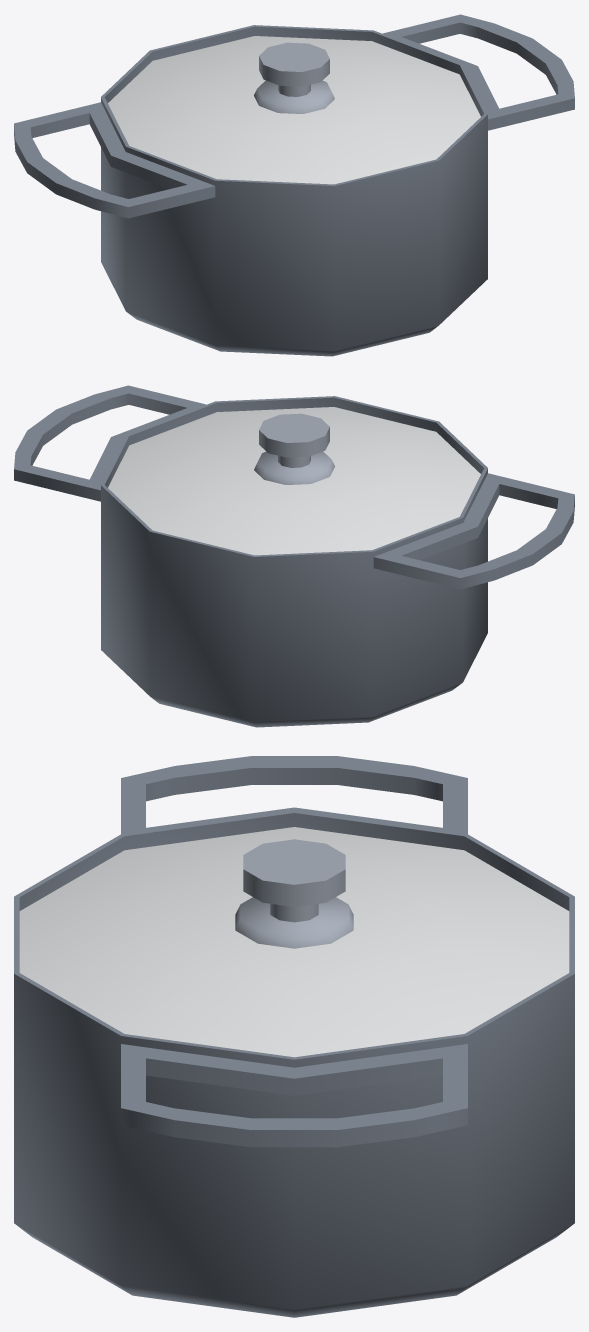
File: Casserole_Pot.glb
3 views of the same model, one above another, from view 1: azimuth 30°, elevation 25°; view 2: azimuth 150°, elevation 25°; view 3: azimuth 270°, elevation 25° (orthographic). The views are drawn at different scales.
Parts seen in each view (by area): view 1: pan_casserole_pot.001_Cylinder.046, pan_casserole_pot_lid_Cylinder.048; view 2: pan_casserole_pot.001_Cylinder.046, pan_casserole_pot_lid_Cylinder.048; view 3: pan_casserole_pot.001_Cylinder.046, pan_casserole_pot_lid_Cylinder.048.
Boxes of the visible parts, left/top/right/bottom form: pan_casserole_pot.001_Cylinder.046: left=14, top=14, right=574, bottom=356; pan_casserole_pot_lid_Cylinder.048: left=108, top=36, right=480, bottom=184; pan_casserole_pot.001_Cylinder.046: left=14, top=385, right=574, bottom=727; pan_casserole_pot_lid_Cylinder.048: left=108, top=407, right=480, bottom=555; pan_casserole_pot.001_Cylinder.046: left=14, top=756, right=574, bottom=1317; pan_casserole_pot_lid_Cylinder.048: left=19, top=827, right=569, bottom=1057.
Size of the model in its own units: 7.35 by 3.11 by 4.66.
Materials: 2 (2 with a texture image).
